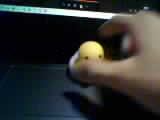duck: (63, 36, 115, 82)
